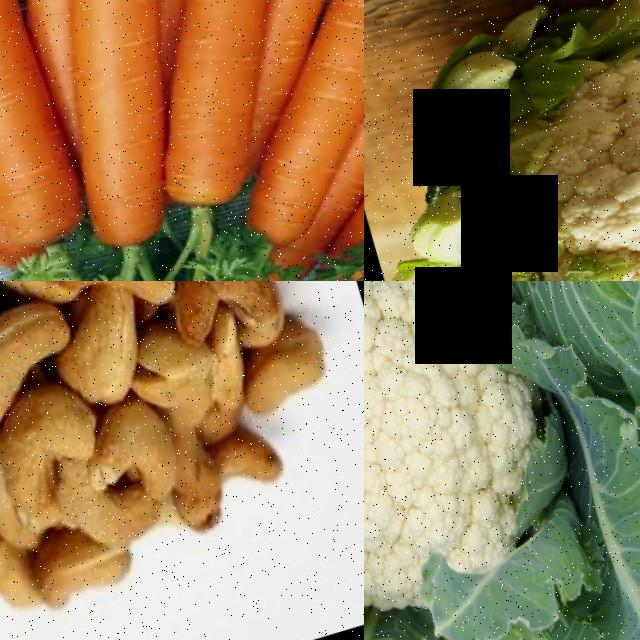carrot: (25, 0, 212, 252), (132, 0, 290, 188), (0, 0, 91, 272), (226, 104, 355, 259)
cashew: (0, 395, 108, 546), (233, 322, 361, 449), (198, 421, 324, 529), (79, 394, 194, 511), (0, 303, 95, 430), (27, 534, 143, 632), (167, 281, 306, 341), (44, 281, 186, 308)
cauliflower: (364, 281, 640, 640), (364, 0, 640, 281)
